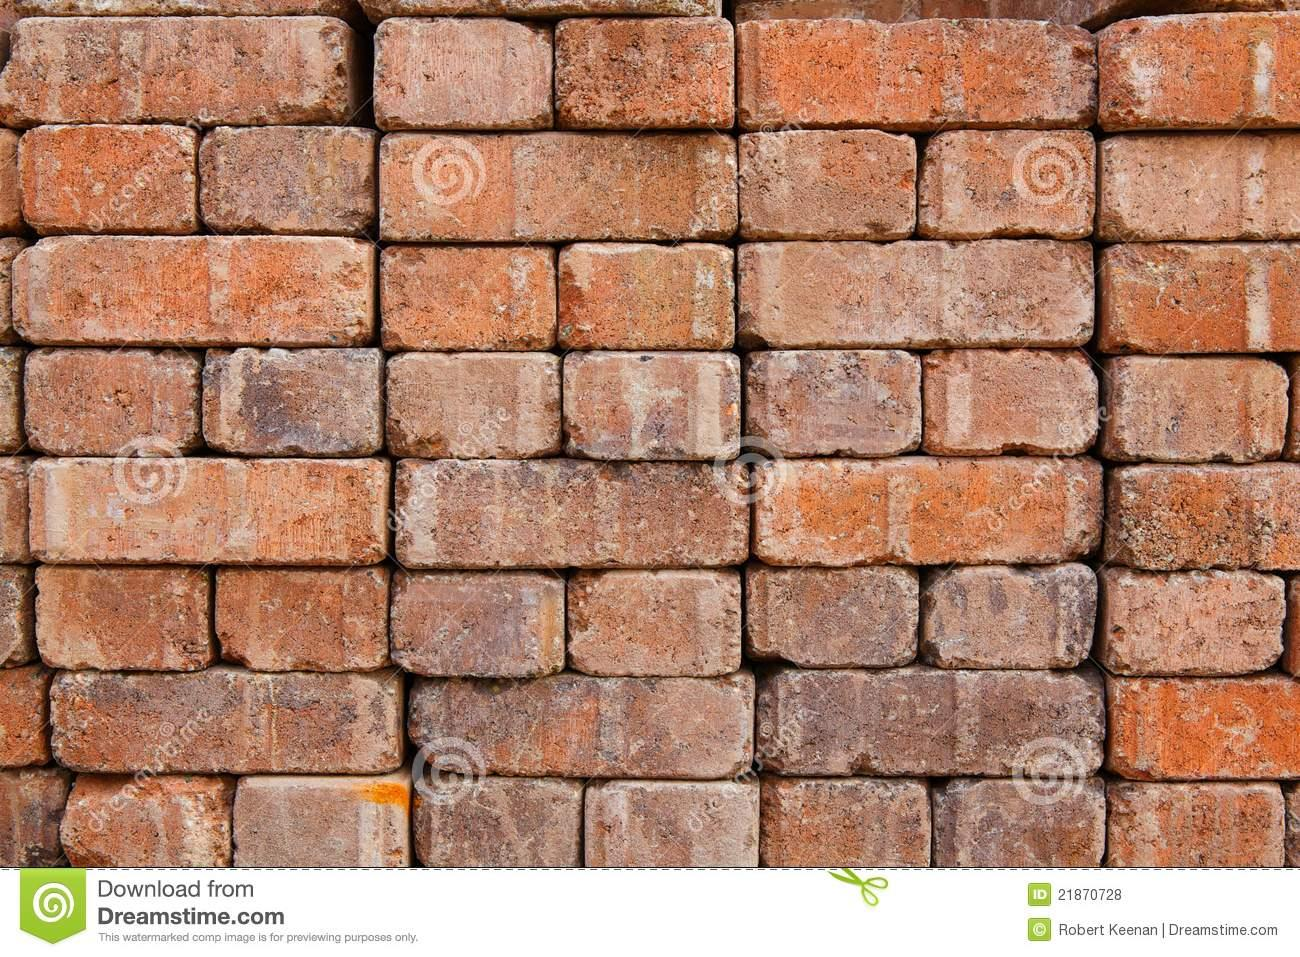brick: (13, 236, 373, 345), (737, 17, 1097, 126), (738, 239, 1094, 349), (396, 459, 749, 569), (754, 455, 1103, 566), (381, 133, 737, 241), (30, 457, 388, 563), (758, 668, 1105, 777), (0, 16, 344, 124), (410, 671, 755, 778), (50, 670, 402, 773), (1097, 11, 1300, 131), (1100, 242, 1300, 353), (1101, 135, 1300, 242), (554, 15, 734, 130), (1109, 462, 1298, 571), (373, 18, 553, 131), (202, 347, 382, 458), (1108, 677, 1300, 780), (1106, 356, 1289, 464), (739, 128, 916, 239), (16, 124, 197, 232), (920, 127, 1095, 237), (563, 351, 741, 459), (1106, 569, 1285, 676), (560, 242, 737, 349), (199, 128, 372, 235), (388, 351, 560, 458), (568, 569, 742, 675), (923, 350, 1097, 455), (747, 350, 922, 455), (25, 350, 199, 455), (926, 562, 1097, 668), (392, 572, 564, 677), (382, 247, 557, 350), (35, 567, 208, 670), (216, 569, 389, 670), (746, 566, 917, 666), (234, 779, 409, 867), (61, 776, 229, 867), (584, 780, 759, 866), (413, 780, 583, 868), (1107, 782, 1284, 867), (934, 779, 1105, 866), (763, 779, 930, 867)
